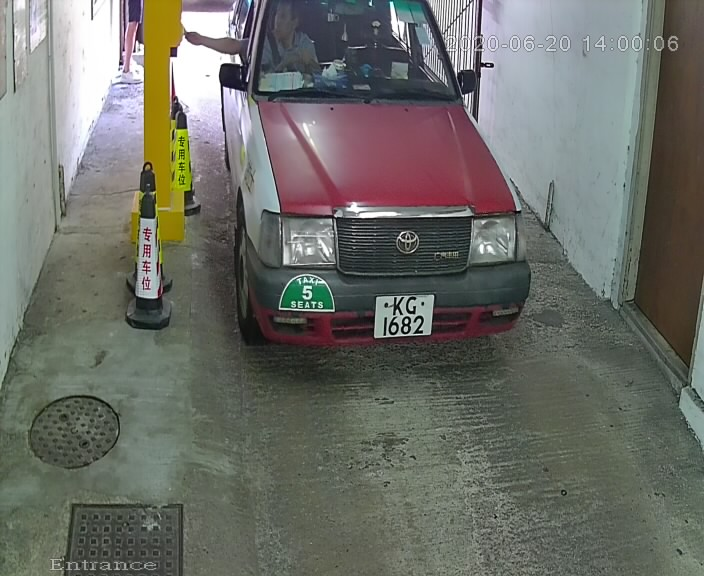taxi: (207, 2, 532, 374)
taxi_mark: (275, 267, 342, 322)
